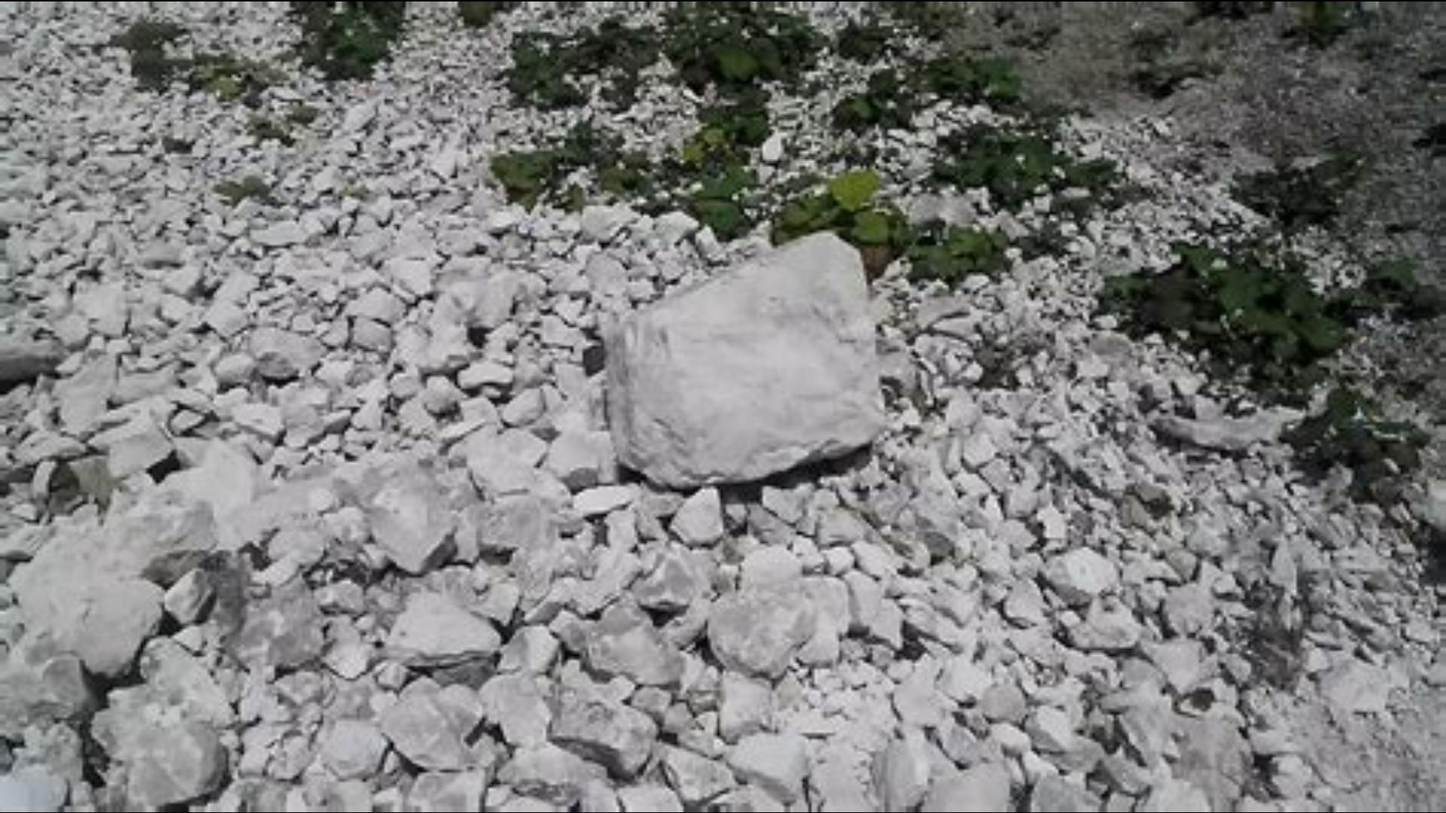rock: (601, 232, 879, 486)
